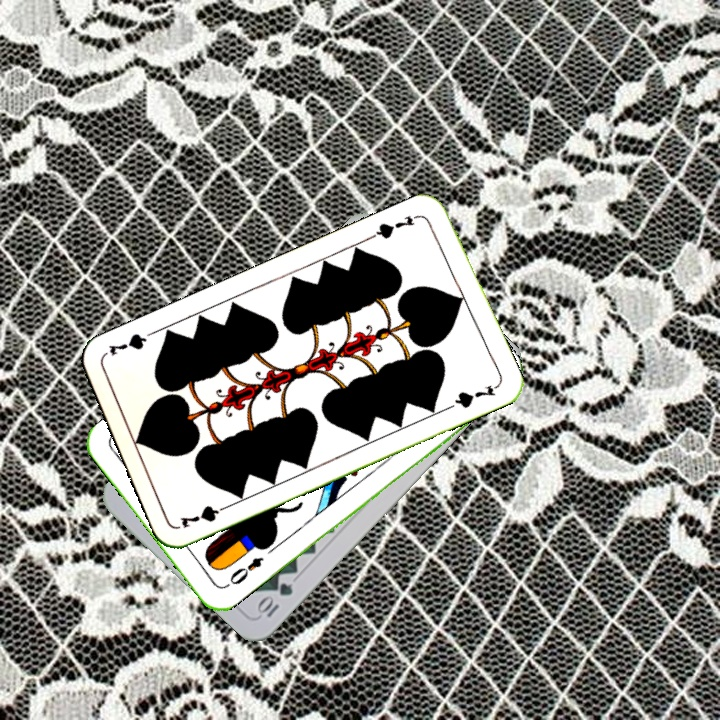EO: (225, 552, 267, 588)
G10: (252, 578, 296, 620)
G7: (176, 500, 234, 531), (367, 210, 423, 242)
